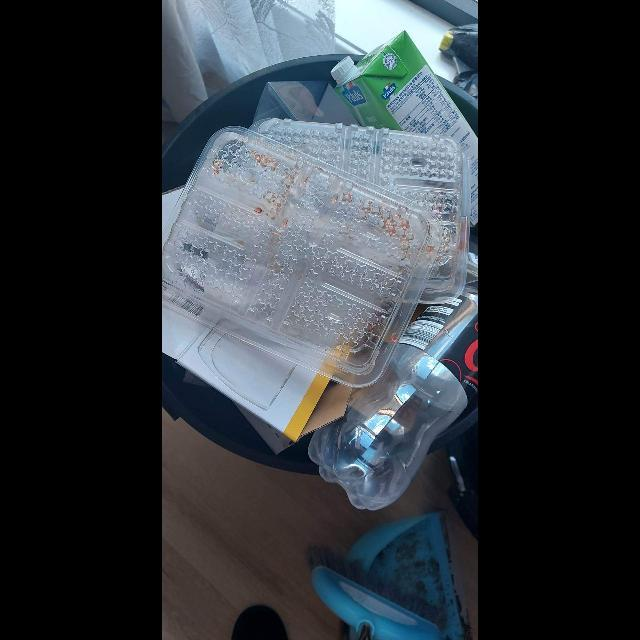paper: (163, 235, 353, 457), (330, 32, 478, 227)
plastic: (163, 127, 445, 387), (250, 117, 470, 303), (309, 280, 478, 511)
